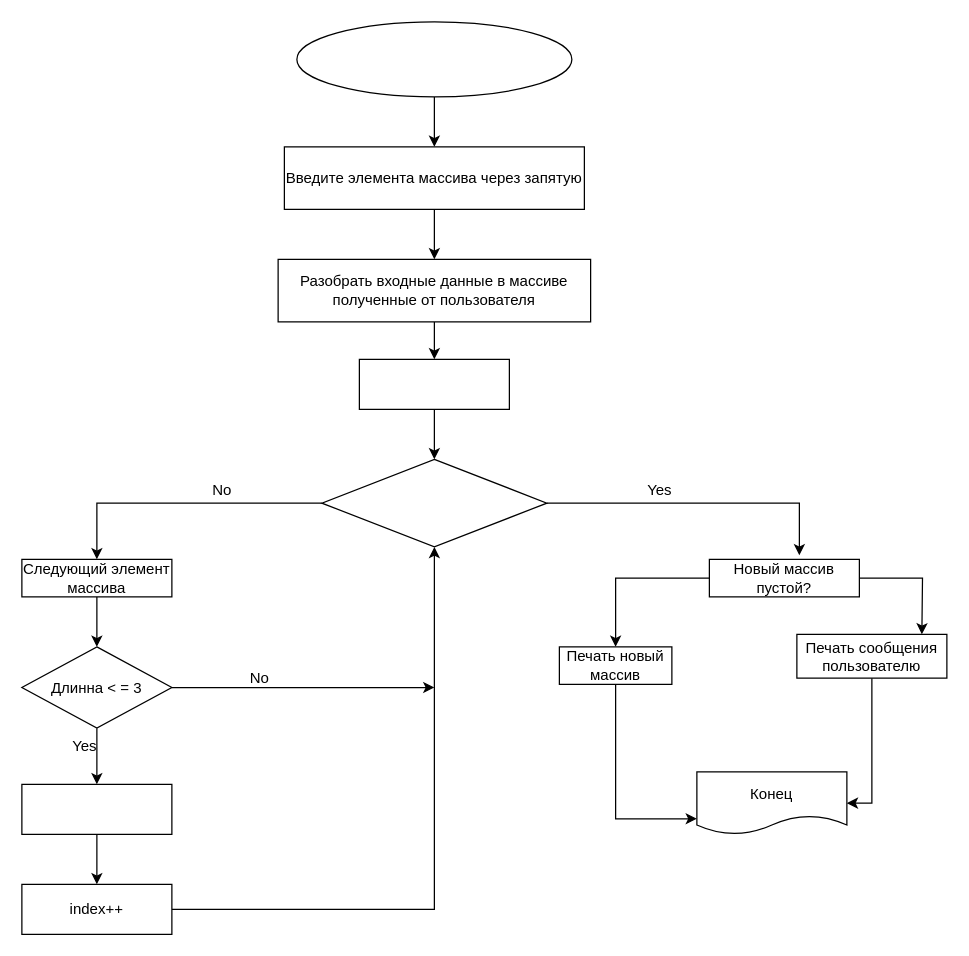
Some shapes in this 969 by 956 pixel diagram are drawn without their labels. Here are the shapes that lost their labels. From the top down, the centre of each, then its label:
the point at 434,59: Start
the point at 433,383: Создание нового массива
the point at 434,502: Конец исходного массива?
the point at 96,808: Скопировать новый элемент массива
